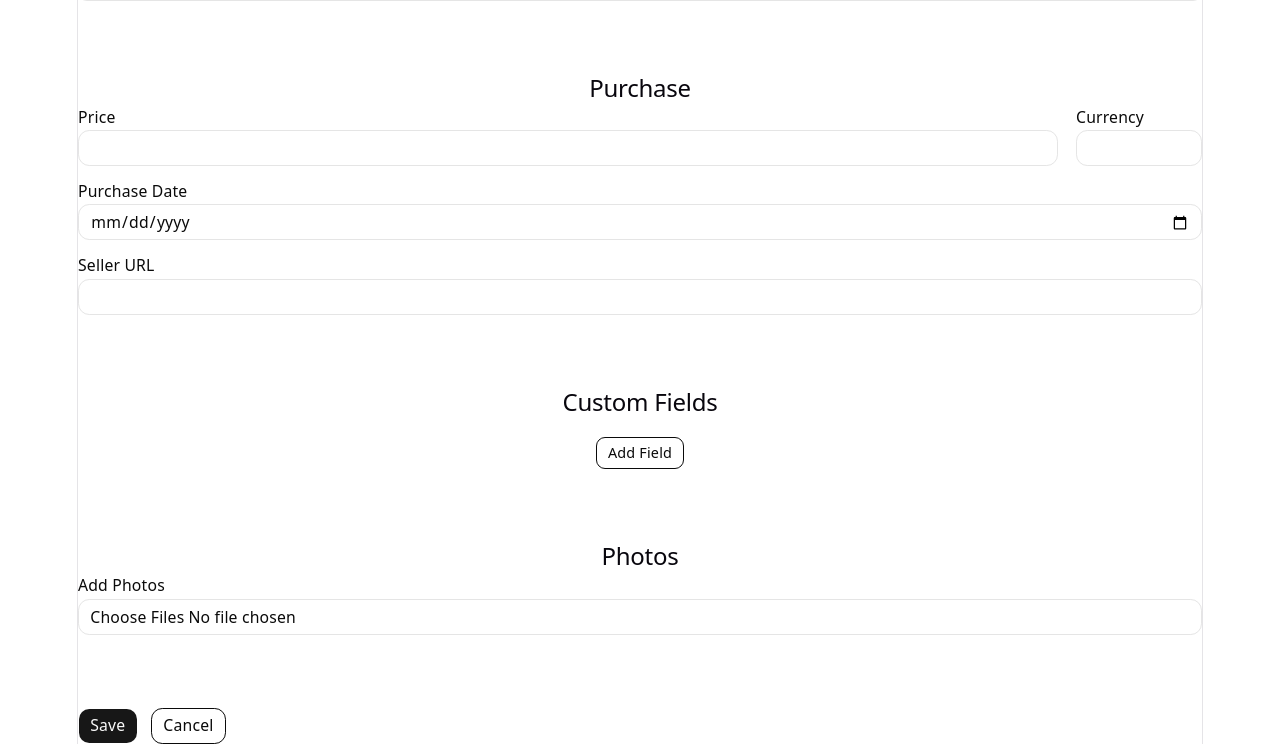
ItemForm › ItemForm should show validation error when name is empty in create mode
(page scrolled)
Click the button "Save". click: (108, 726)
box: 78,708 -> 138,743
(page scrolled)
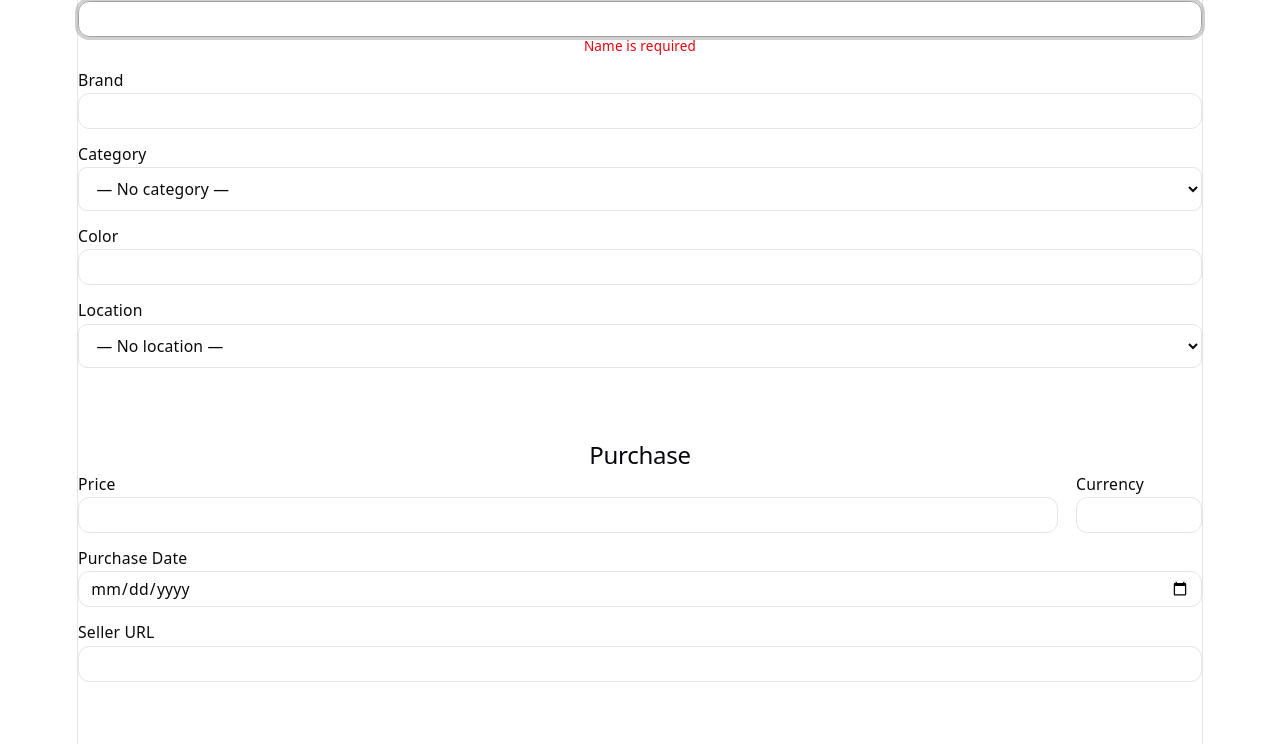
Expected: the text "Name is required" is shown, 584,37 -> 696,55
